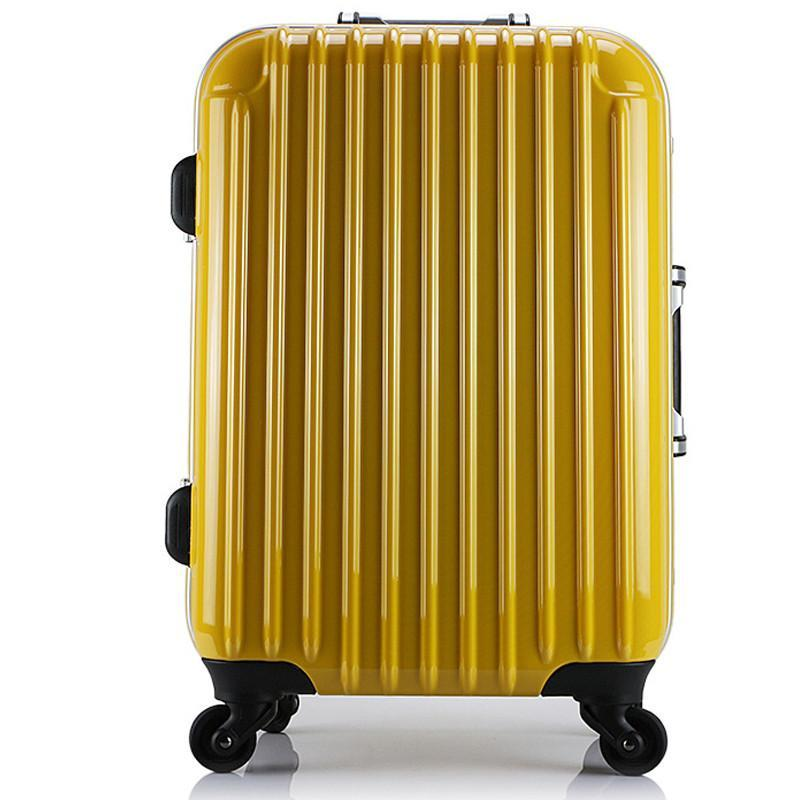luggage: (163, 10, 688, 777)
